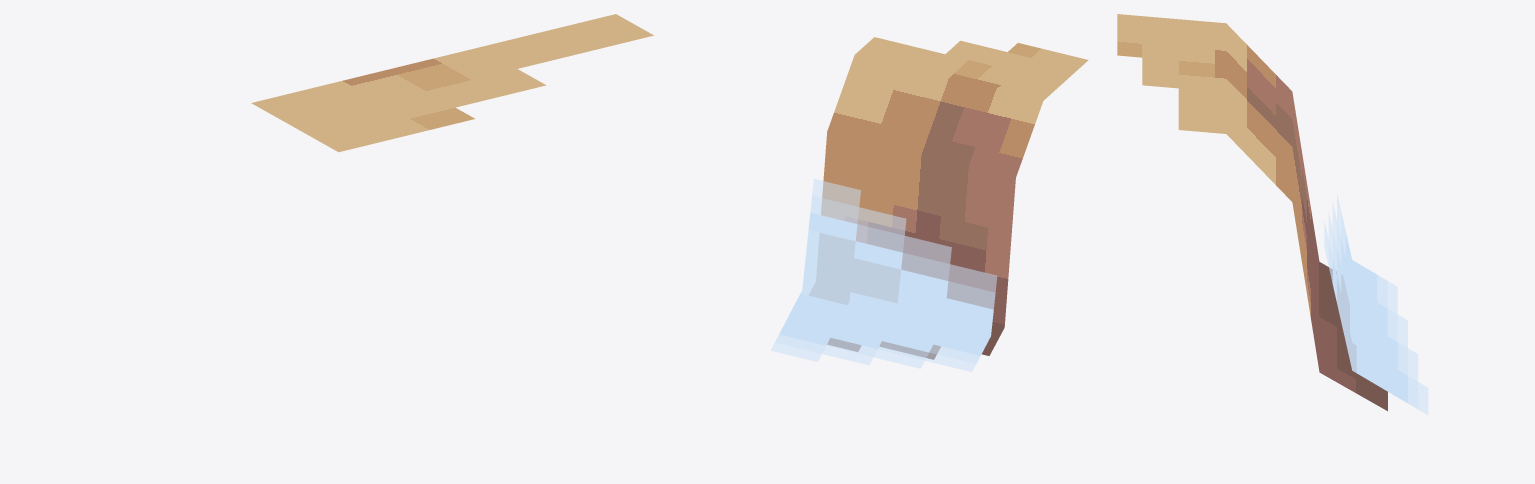
3 views of the same model, side by side, from view 1: azimuth 30°, elevation 25°; view 2: azimuth 150°, elevation 25°; view 3: azimuth 270°, elevation 25° (orthographic). The views are drawn at different scales.
Bounding box in the file's own units: 0.5 × 0.7266 × 0.7695.
Materials: 2 (2 with a texture image).
